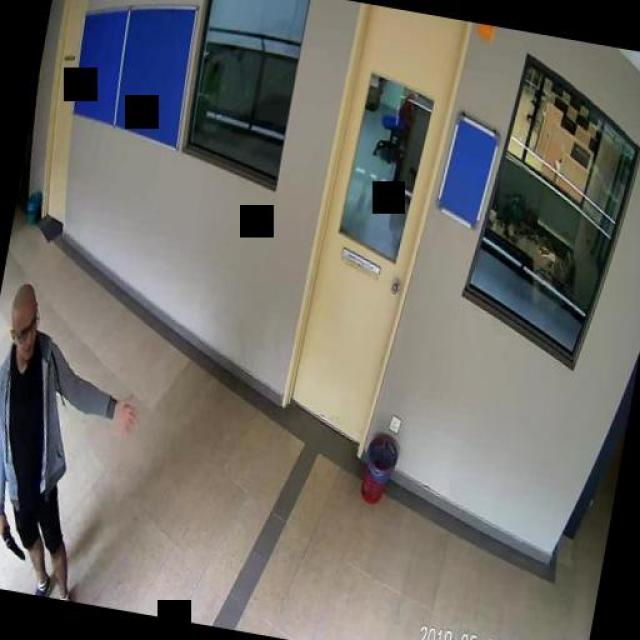gun: (0, 514, 28, 555)
